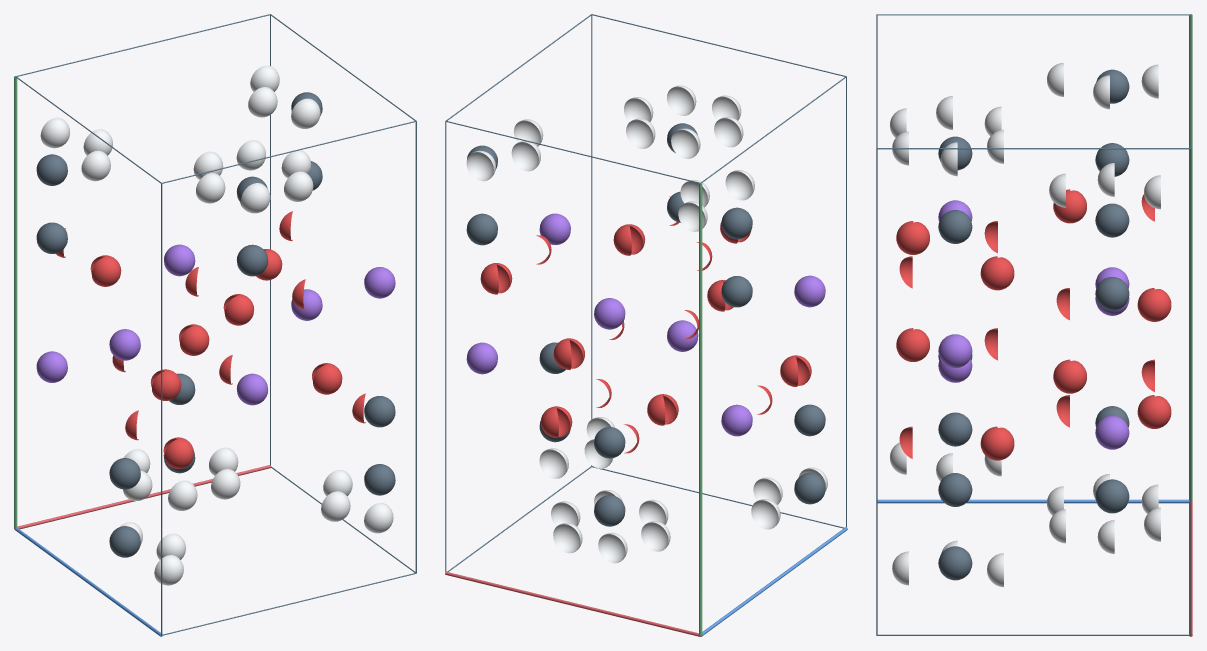
File: cod-1549467.glb
3 views of the same model, side by side, from view 1: azimuth 30°, elevation 25°; view 2: azimuth 150°, elevation 25°; view 3: azimuth 270°, elevation 25° (orthographic). The views are drawn at different scales.
Visible parts, largest first — view 1: Ô mạng và các trục a, b, c, H(2C) · H · 0.5 (×7), O(1) · O · 0.8581 (×6), Na(1) · Na · 1 (×6), H(2B) · H · 0.5 (×7), H(2A) · H · 0.5 (×6), C(1) · C · 1 (×4), C(2) · C · 1 (×3); view 2: Ô mạng và các trục a, b, c, H(2C) · H · 0.5 (×7), O(1) · O · 0.8581 (×6), Na(1) · Na · 1 (×6), H(2A) · H · 0.5 (×6), H(2B) · H · 0.5 (×6), C(1) · C · 1 (×4), C(2) · C · 1 (×3); view 3: O(1) · O · 0.8581 (×8), Ô mạng và các trục a, b, c, C(2) · C · 1 (×6), C(1) · C · 1 (×4), Na(1) · Na · 1 (×3), H(2B) · H · 0.5 (×5), H(2C) · H · 0.5 (×5), H(2A) · H · 0.5 (×4).
Boxes of the visible parts, x1,y1,x2,y2 form: Ô mạng và các trục a, b, c: (14, 14, 416, 636); H(2C) · H · 0.5 (×7): (81, 65, 352, 585); O(1) · O · 0.8581 (×6): (90, 255, 342, 468); Na(1) · Na · 1 (×6): (36, 244, 395, 405); H(2B) · H · 0.5 (×7): (83, 87, 350, 559); H(2A) · H · 0.5 (×6): (40, 98, 393, 533); C(1) · C · 1 (×4): (36, 222, 395, 489); C(2) · C · 1 (×3): (36, 154, 395, 557); Ô mạng và các trục a, b, c: (445, 14, 847, 636); H(2C) · H · 0.5 (×7): (466, 95, 754, 553); O(1) · O · 0.8581 (×6): (480, 224, 811, 437); Na(1) · Na · 1 (×6): (466, 213, 825, 436); H(2A) · H · 0.5 (×6): (513, 85, 780, 563); H(2B) · H · 0.5 (×6): (511, 97, 782, 551); C(1) · C · 1 (×4): (466, 213, 825, 458); C(2) · C · 1 (×3): (594, 207, 825, 526); O(1) · O · 0.8581 (×8): (896, 189, 1171, 460); Ô mạng và các trục a, b, c: (876, 14, 1192, 636); C(2) · C · 1 (×6): (938, 69, 1129, 580); C(1) · C · 1 (×4): (938, 143, 1129, 506); Na(1) · Na · 1 (×3): (938, 334, 1129, 449); H(2B) · H · 0.5 (×5): (936, 75, 1114, 553); H(2C) · H · 0.5 (×5): (987, 63, 1160, 587); H(2A) · H · 0.5 (×4): (892, 64, 1158, 585).
Bounding box in the file's own units: 6.59 × 10.13 × 5.95.
